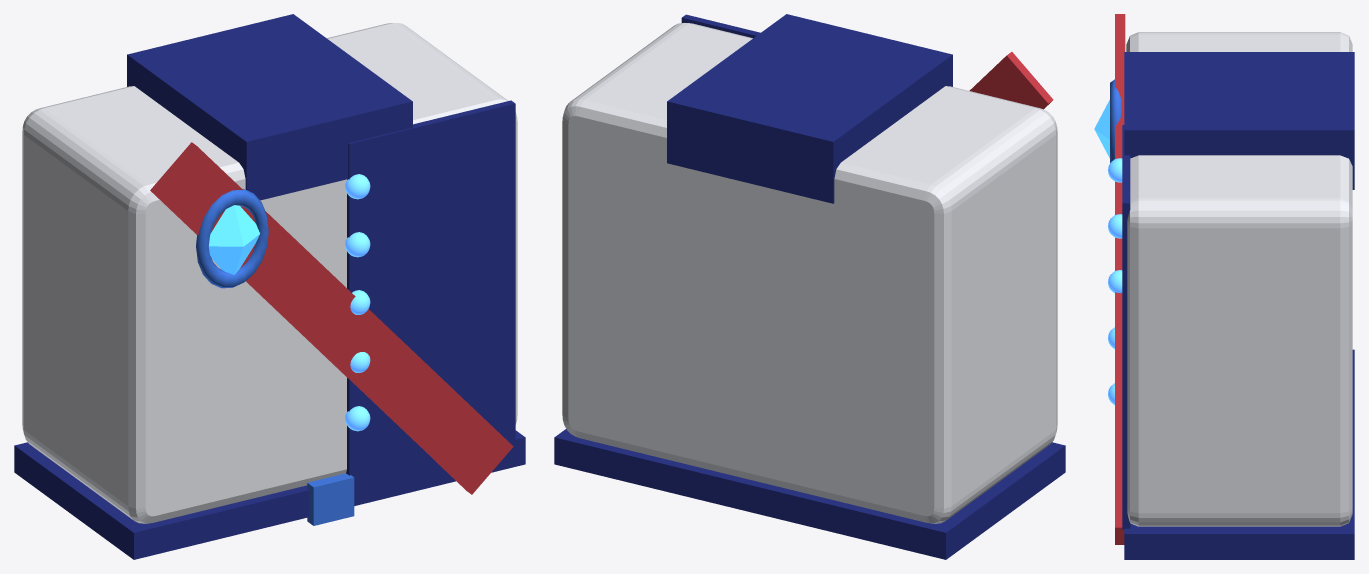
The model's file is eqf_eqen1.glb.
3 views of the same model, side by side, from view 1: azimuth 30°, elevation 25°; view 2: azimuth 150°, elevation 25°; view 3: azimuth 270°, elevation 25° (orthographic). The views are drawn at different scales.
Bounding box in the file's own units: 2.12 × 2.15 × 1.27.
